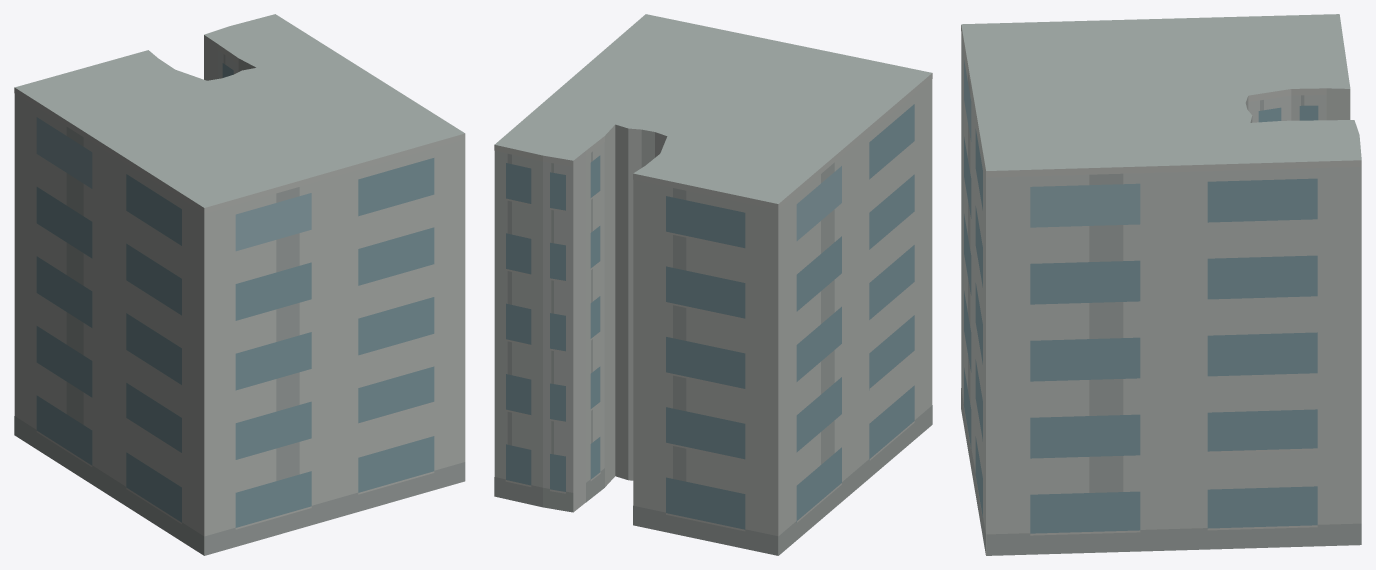
The model's file is survey-upis-32985275.glb.
3 renders of one model, left to right at view 1: azimuth 30°, elevation 25°; view 2: azimuth 150°, elevation 25°; view 3: azimuth 270°, elevation 25°, orthographic. The views are drawn at different scales.
Parts seen in each view (by area): view 1: survey-upis-32985275.tmp; view 2: survey-upis-32985275.tmp; view 3: survey-upis-32985275.tmp.
Boxes of the visible parts, <box> form: survey-upis-32985275.tmp: <box>14,14,465,555</box>; survey-upis-32985275.tmp: <box>494,14,932,555</box>; survey-upis-32985275.tmp: <box>961,14,1361,555</box>.
Size of the model in its own units: 12.44 by 14.2 by 13.41.
